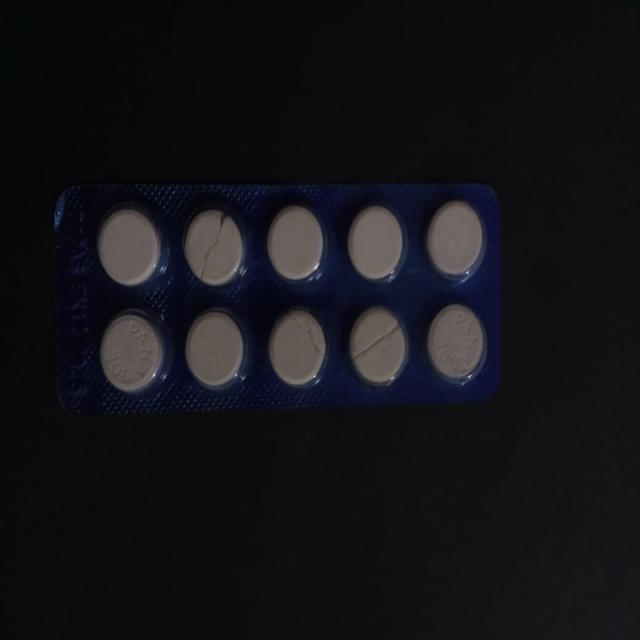defect: (346, 304, 412, 390), (183, 207, 247, 288), (268, 306, 328, 387)
